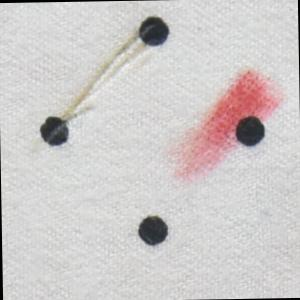Oil Stain: (42, 21, 169, 148)
Stain: (164, 66, 293, 187)
